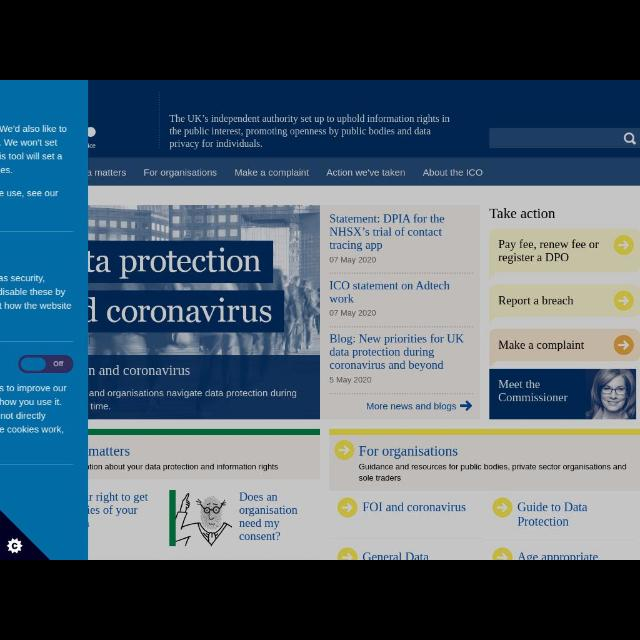button: (334, 440, 354, 460), (493, 498, 513, 518), (614, 235, 634, 255), (614, 291, 634, 311), (614, 335, 634, 355), (337, 498, 357, 516), (337, 548, 357, 560), (493, 548, 513, 558)
icon: (7, 538, 23, 554), (624, 132, 636, 146), (460, 401, 472, 411), (618, 340, 630, 350), (342, 503, 353, 513), (497, 503, 508, 513), (618, 296, 628, 306), (618, 242, 630, 250), (339, 446, 351, 454), (497, 553, 508, 559), (342, 553, 353, 559)
image: (88, 206, 320, 420), (490, 369, 636, 419), (170, 490, 232, 546)
input: (490, 128, 638, 148)
switch: (19, 355, 73, 373)
text: (170, 114, 450, 150), (330, 333, 464, 372), (330, 214, 444, 252), (1, 384, 67, 434), (240, 492, 298, 540), (498, 238, 600, 264), (0, 124, 68, 160), (359, 463, 626, 471), (518, 502, 588, 526), (88, 464, 278, 472), (330, 280, 450, 290), (360, 446, 458, 458), (362, 502, 466, 512), (498, 340, 584, 352), (498, 296, 574, 308), (366, 402, 456, 412), (235, 168, 309, 178), (144, 168, 216, 178), (0, 288, 66, 298), (489, 208, 555, 218), (519, 551, 599, 559), (90, 492, 148, 503), (327, 168, 405, 176), (89, 505, 138, 517), (1, 302, 72, 310), (362, 552, 428, 560), (423, 168, 483, 176), (1, 190, 59, 198), (0, 274, 44, 284), (329, 376, 371, 386), (329, 256, 377, 264), (88, 448, 130, 457), (329, 310, 376, 318), (360, 475, 400, 481), (95, 170, 126, 177), (330, 295, 354, 303), (1, 168, 13, 174)
